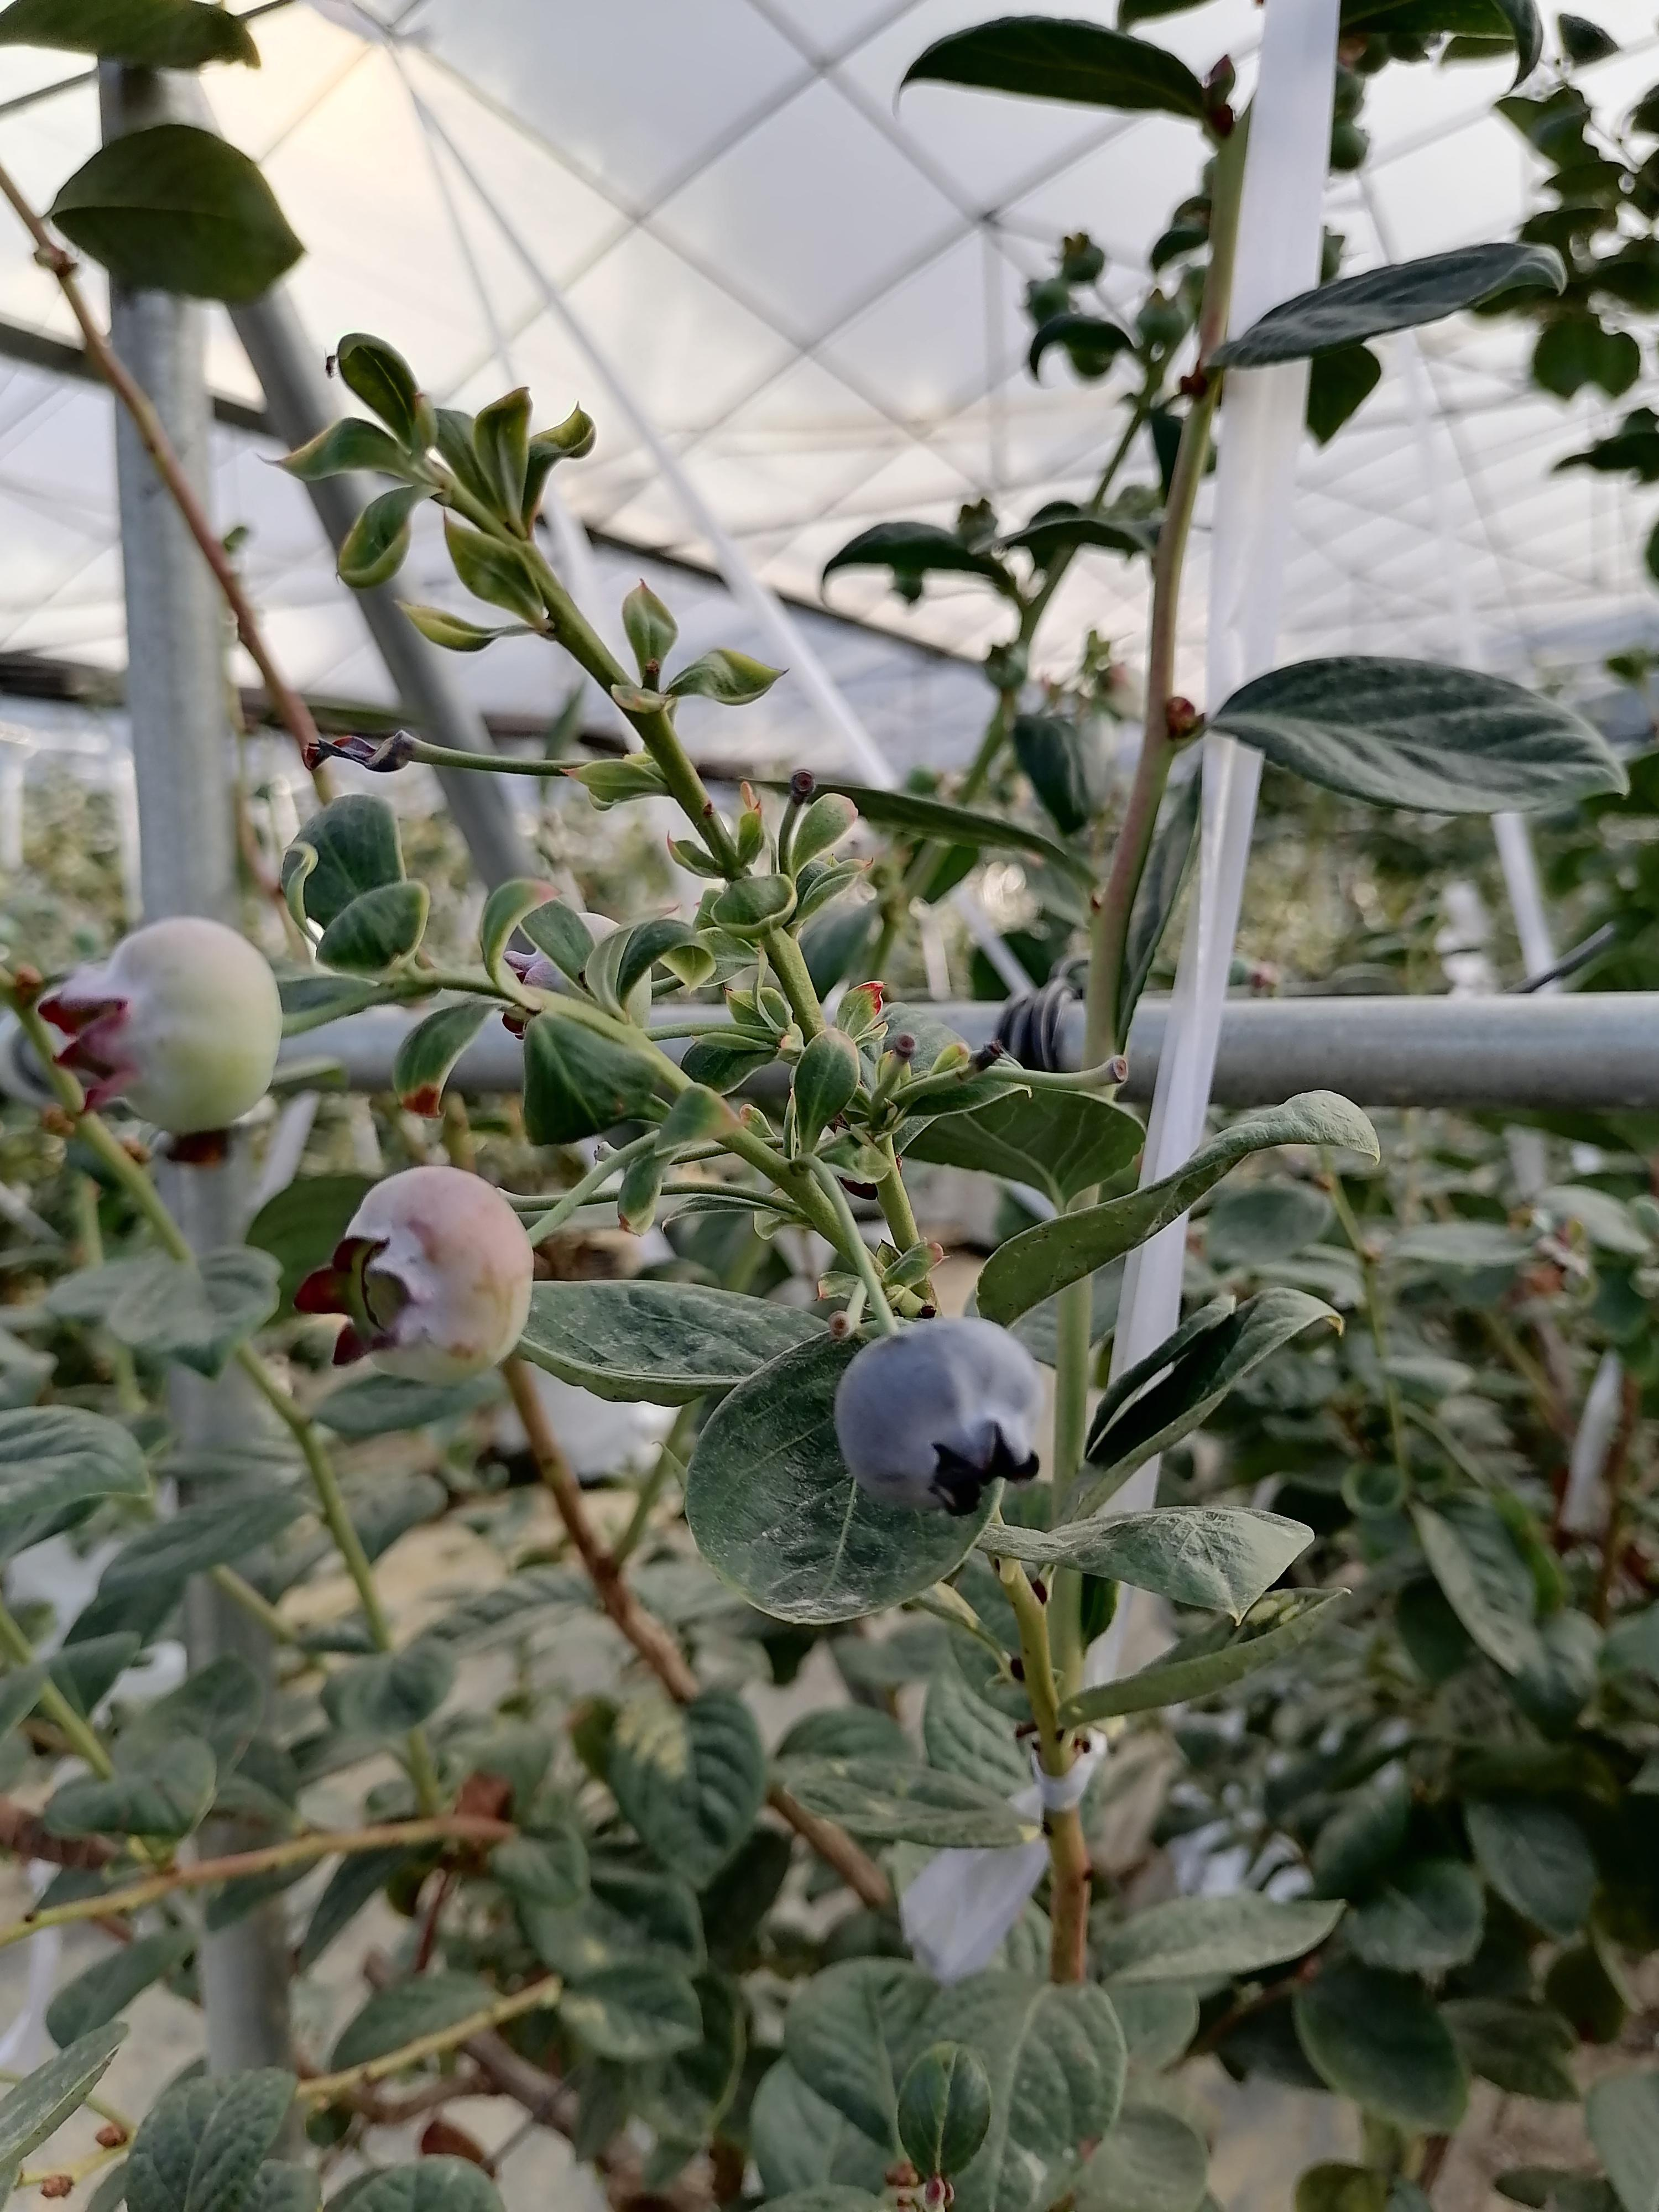ripe-blueberries: (831, 1312, 1044, 1521)
